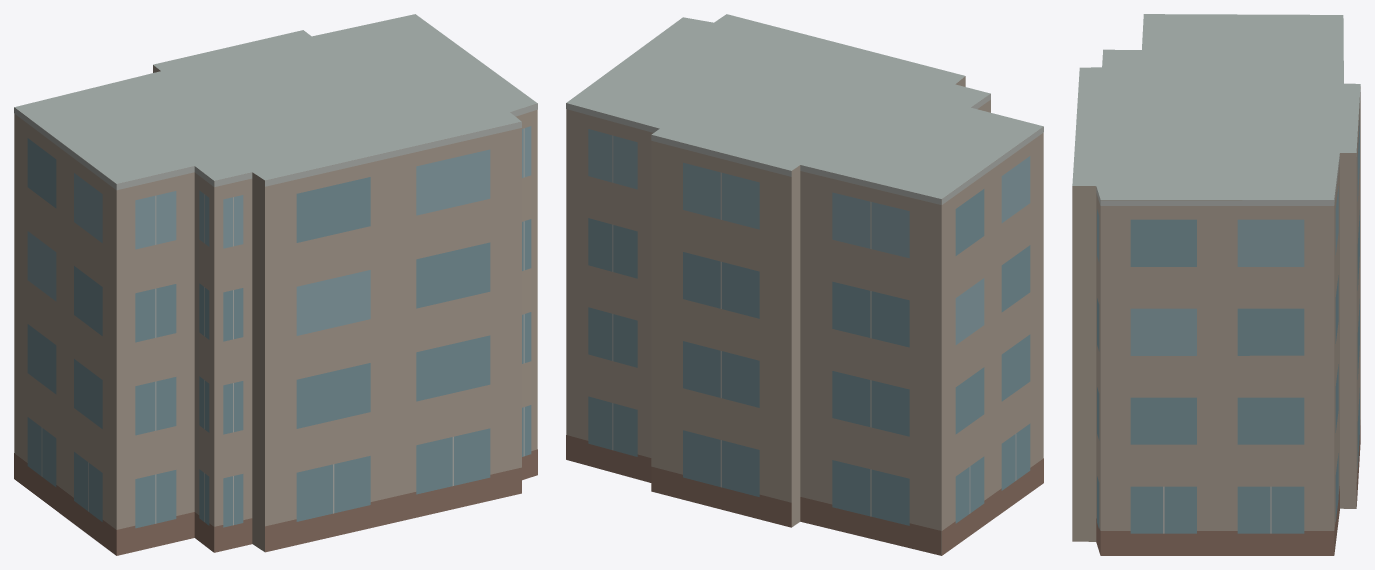
The model's file is survey-upis-32603318.glb.
3 renders of one model, left to right at view 1: azimuth 30°, elevation 25°; view 2: azimuth 150°, elevation 25°; view 3: azimuth 270°, elevation 25°, orthographic. The views are drawn at different scales.
Parts seen in each view (by area): view 1: survey-upis-32603318.tmp; view 2: survey-upis-32603318.tmp; view 3: survey-upis-32603318.tmp.
Boxes of the visible parts, x1,y1,x2,y2 form: survey-upis-32603318.tmp: (14, 14, 537, 555); survey-upis-32603318.tmp: (566, 14, 1043, 555); survey-upis-32603318.tmp: (1072, 14, 1360, 555).
Bounding box in the file's own units: 16.22 × 14.45 × 10.62.
